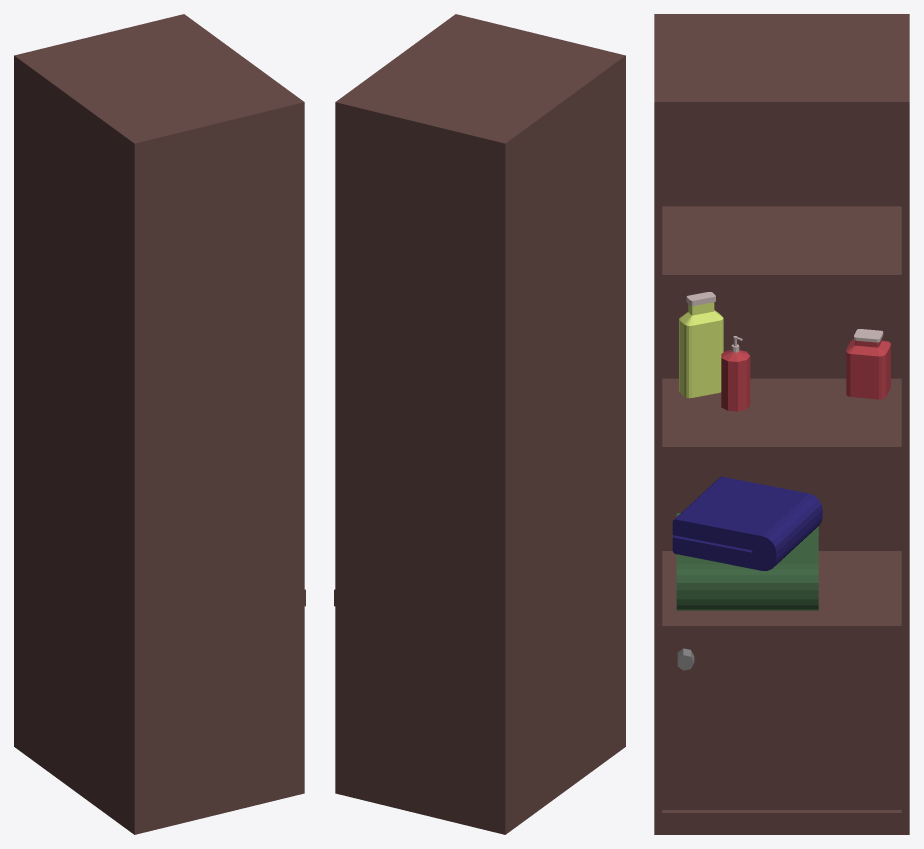
The model's file is bathroomRegalwithclutter.fbx.
The picture shows the model from 3 angles, left to right: view 1: azimuth 30°, elevation 25°; view 2: azimuth 150°, elevation 25°; view 3: azimuth 270°, elevation 25°; orthographic projection. The views are drawn at different scales.
Visible parts, largest first — view 1: Cylinder; view 2: Cylinder; view 3: Cylinder.
Boxes of the visible parts, <box> form: Cylinder: <box>14,14,305,834</box>; Cylinder: <box>334,14,625,834</box>; Cylinder: <box>654,14,909,834</box>.
Size of the model in its own units: 53.85 by 200 by 63.15.
